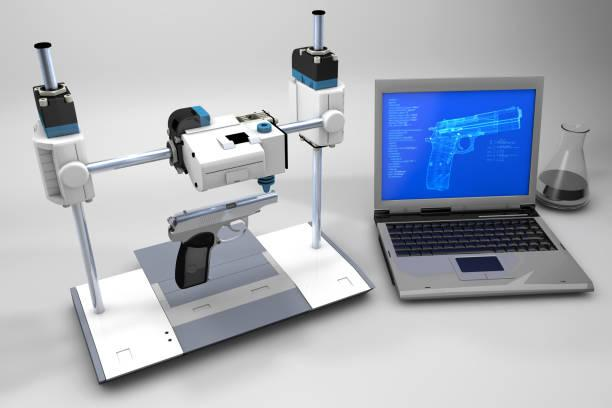weapon: (164, 187, 279, 291), (425, 104, 526, 193)
